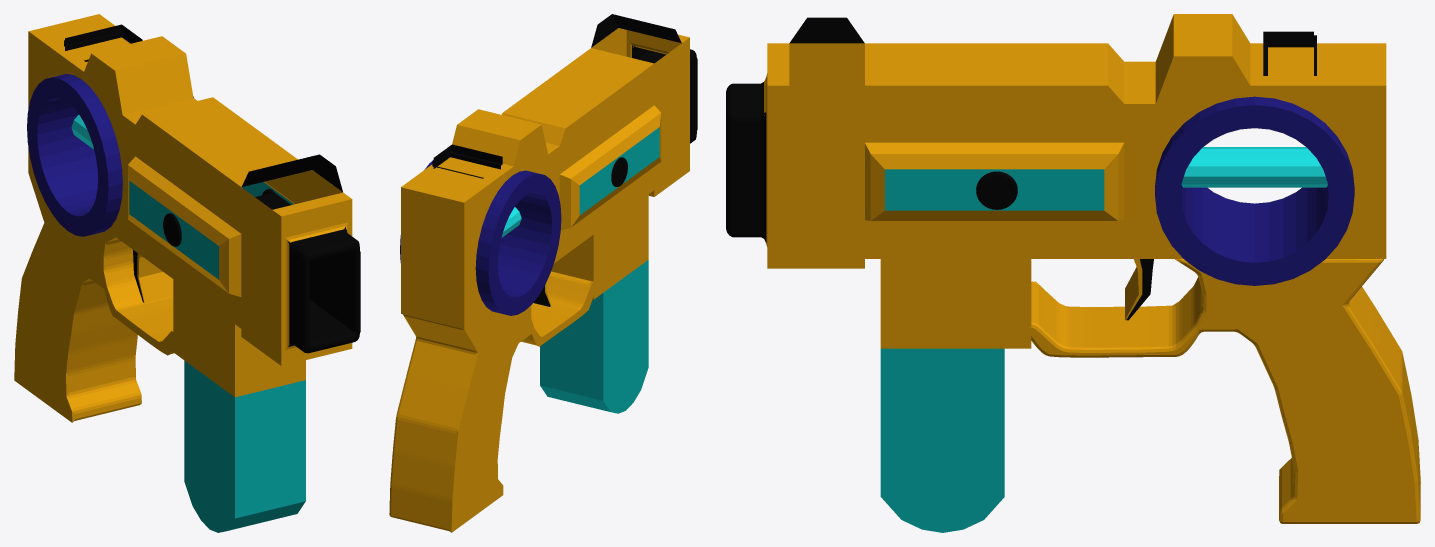
File: gun-transformed.glb
3 views of the same model, side by side, from view 1: azimuth 30°, elevation 25°; view 2: azimuth 150°, elevation 25°; view 3: azimuth 270°, elevation 25° (orthographic). The views are drawn at different scales.
Visible parts, largest first — view 1: Plane.001, Circle, Cube, Plane.002, Circle.001; view 2: Plane.001, Circle, Plane.002, Circle.001; view 3: Plane.001, Circle, Cylinder.003, Circle.001, Cube, Plane.002.
Boxes of the visible parts, <box> form: Plane.001: <box>14,14,360,532</box>; Circle: <box>27,74,193,236</box>; Cube: <box>133,250,173,303</box>; Plane.002: <box>64,24,142,61</box>; Circle.001: <box>163,189,274,246</box>; Plane.001: <box>389,14,697,532</box>; Circle: <box>400,160,561,315</box>; Plane.002: <box>432,144,502,178</box>; Circle.001: <box>611,157,627,186</box>; Plane.001: <box>726,14,1420,532</box>; Circle: <box>1155,96,1354,285</box>; Cylinder.003: <box>1181,147,1327,187</box>; Circle.001: <box>976,171,1017,209</box>; Cube: <box>1125,259,1153,320</box>; Plane.002: <box>1263,31,1316,75</box>.
Bounding box in the file's own units: 0.0449 × 0.1602 × 0.2116.
